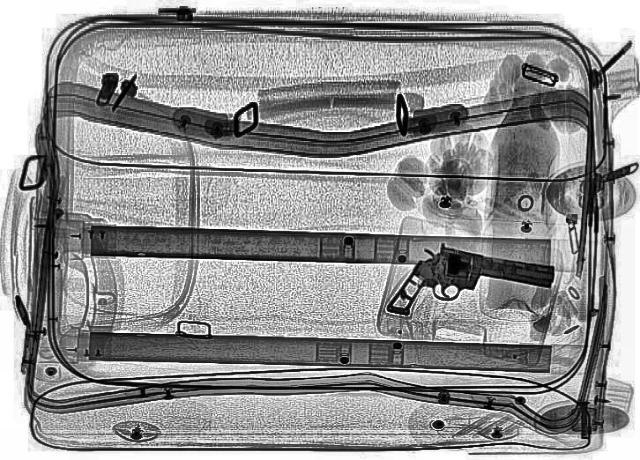Gun: (372, 227, 568, 349)
